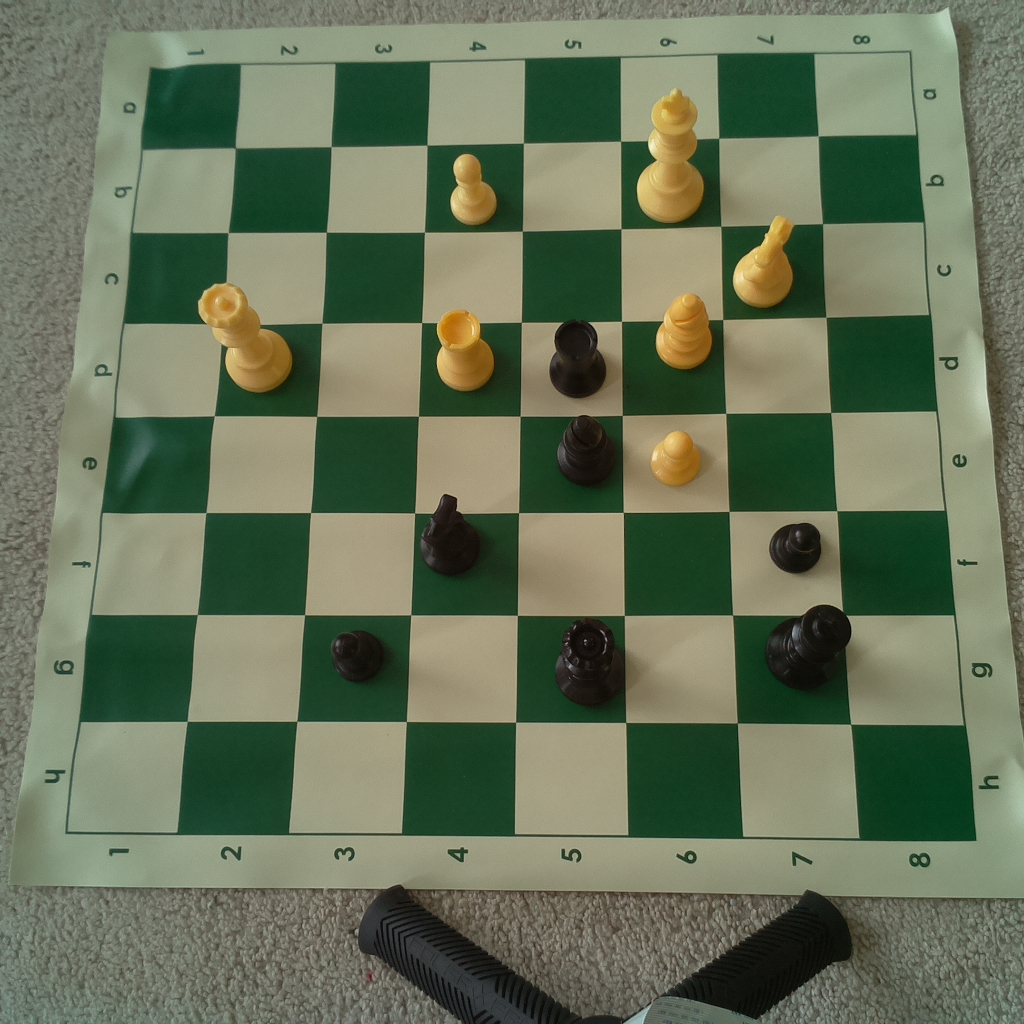black_bishop: (547, 409, 618, 484)
black_king: (759, 599, 855, 691)
black_knight: (412, 490, 483, 578)
black_pawn: (329, 619, 389, 687), (768, 514, 827, 580)
black_queen: (547, 615, 629, 710)
black_rook: (546, 313, 608, 402)
file_a: (142, 52, 915, 148)
file_b: (133, 136, 925, 236)
file_c: (127, 223, 928, 322)
file_d: (116, 315, 938, 419)
file_e: (101, 412, 947, 512)
file_f: (89, 510, 959, 617)
file_g: (79, 618, 966, 723)
file_h: (68, 722, 976, 840)
outline: (68, 53, 975, 839)
rank_1: (66, 61, 241, 834)
rank_2: (176, 64, 336, 834)
rank_3: (288, 64, 432, 834)
rank_4: (402, 60, 524, 834)
rank_5: (514, 57, 633, 835)
rank_6: (621, 54, 745, 839)
rank_7: (716, 53, 862, 838)
rank_8: (816, 53, 979, 840)
white_bishop: (650, 291, 715, 374)
white_king: (627, 87, 710, 230)
white_knight: (724, 208, 798, 315)
white_pawn: (447, 151, 499, 228), (647, 427, 706, 490)
white_queen: (196, 277, 293, 395)
white_rook: (427, 302, 499, 399)
